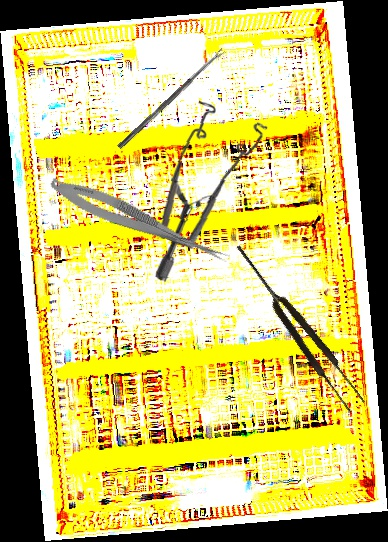Micro Scissor: (45, 171, 235, 270)
Speculum: (146, 96, 276, 283)
Surgical Spoon: (117, 48, 226, 150)
Tissue Forceps: (229, 238, 367, 415)
